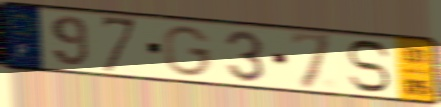3: (223, 29, 268, 84)
7: (289, 29, 335, 92), (100, 14, 141, 74)
9: (48, 14, 90, 69)
G: (161, 24, 215, 79)
S: (343, 38, 393, 95)
